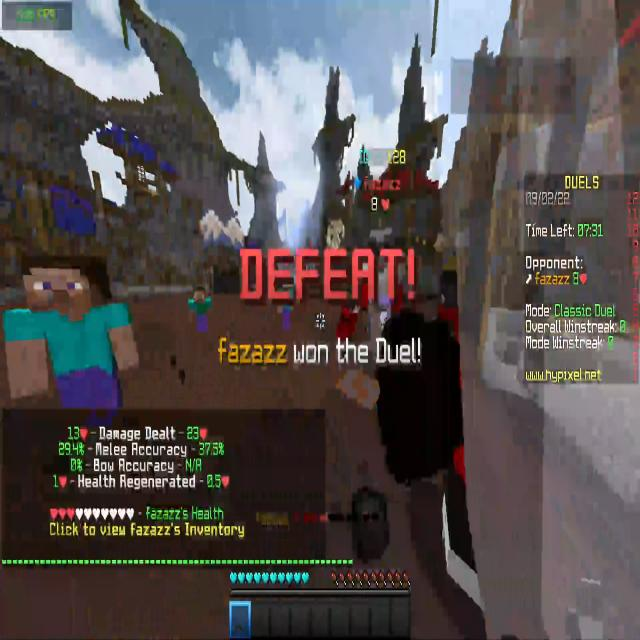Player: (1, 245, 140, 472), (362, 216, 403, 356), (183, 278, 217, 350), (274, 260, 295, 344)
